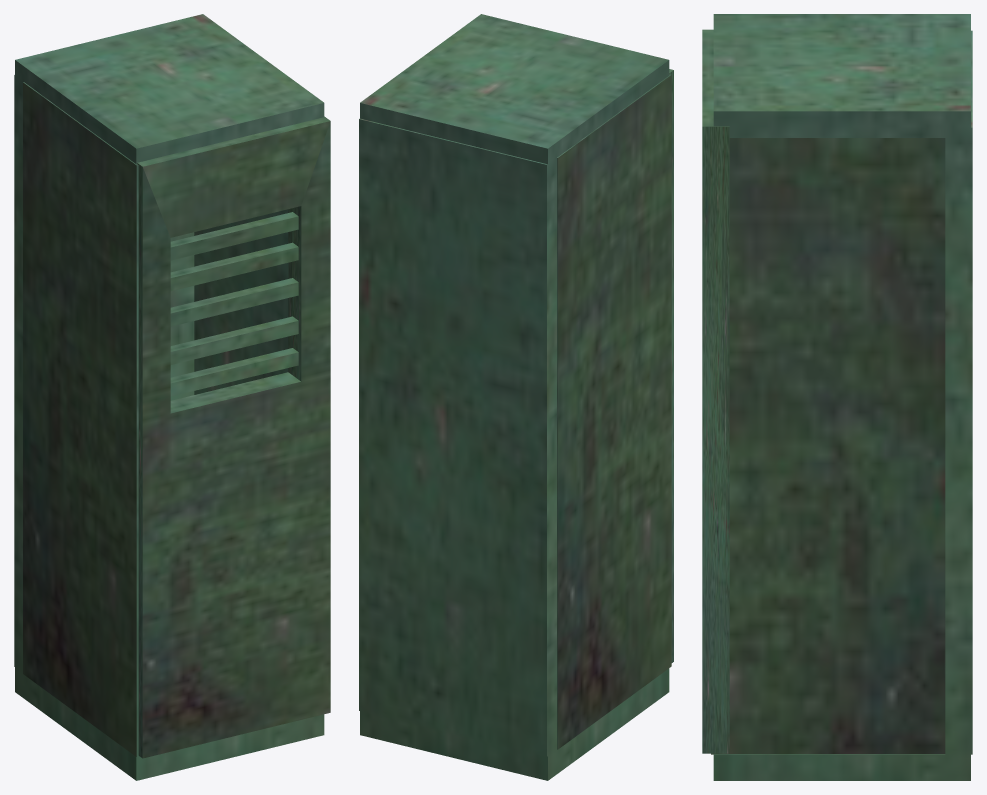
The model's file is locker.fbx.
3 renders of one model, left to right at view 1: azimuth 30°, elevation 25°; view 2: azimuth 150°, elevation 25°; view 3: azimuth 270°, elevation 25°, orthographic. The views are drawn at different scales.
Parts seen in each view (by area): view 1: Locker, Door; view 2: Locker, Door; view 3: Locker, Door.
Boxes of the visible parts, x1,y1,x2,y2 form: Locker: (14, 14, 324, 780); Door: (137, 116, 330, 758); Locker: (359, 14, 671, 780); Door: (669, 69, 673, 662); Locker: (711, 14, 972, 780); Door: (702, 29, 729, 753).
Size of the model in its own units: 120 by 381 by 139.
